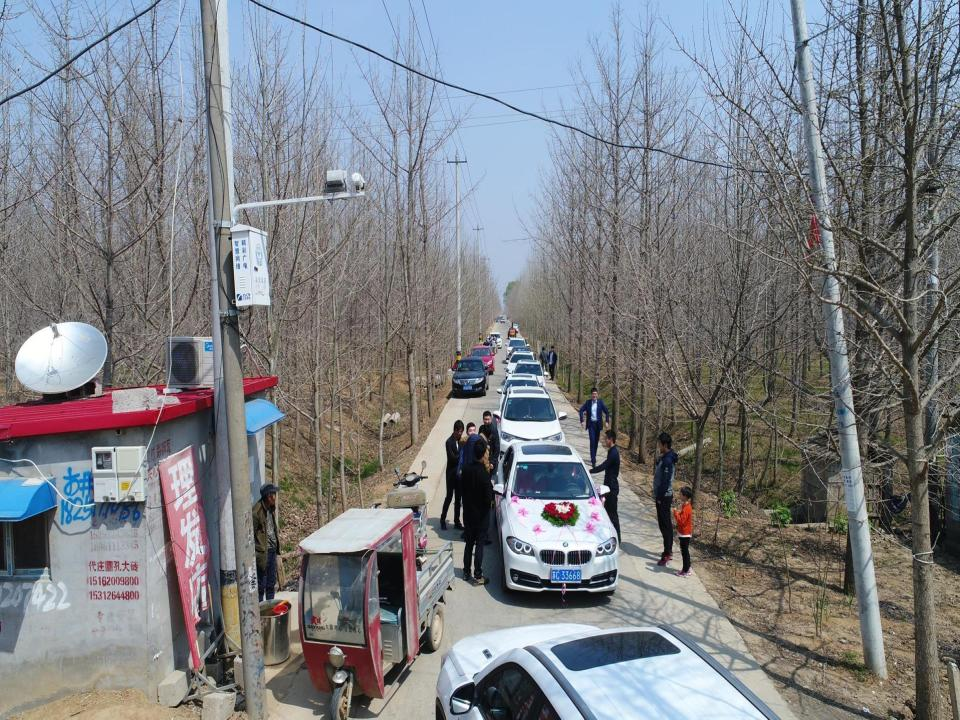car: (434, 626, 793, 720), (491, 445, 620, 593), (494, 386, 566, 460), (497, 373, 540, 419), (450, 356, 489, 398), (508, 359, 549, 387), (505, 351, 536, 381), (467, 346, 496, 375), (504, 337, 529, 361), (509, 346, 532, 365), (485, 331, 502, 350), (510, 323, 519, 333), (500, 317, 505, 324)
